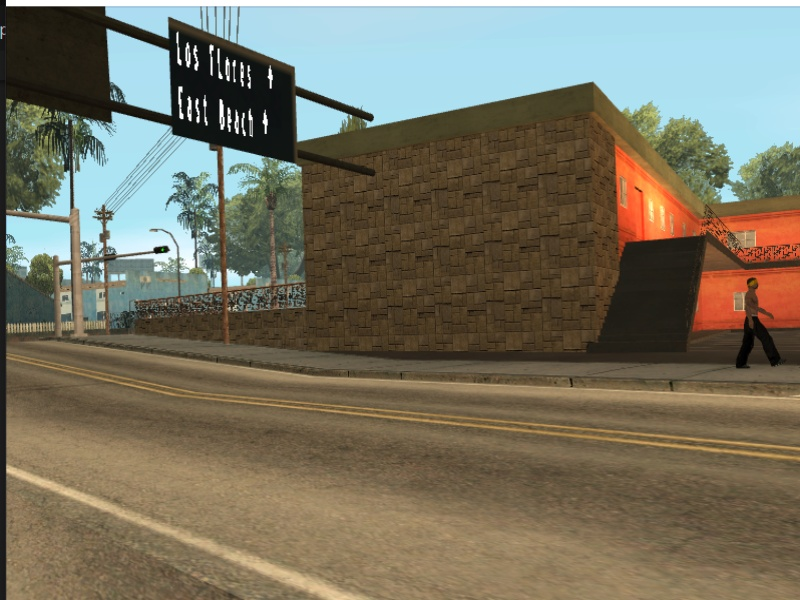person: (737, 277, 786, 372)
pole: (213, 151, 240, 342), (65, 203, 93, 341), (97, 212, 114, 334), (49, 256, 66, 339)
